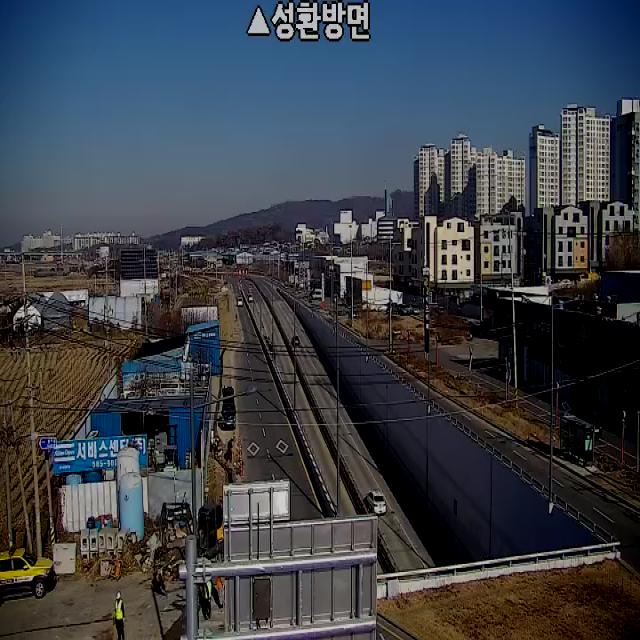Car: (0, 546, 55, 601), (572, 414, 602, 442), (366, 490, 386, 515), (292, 337, 300, 348), (248, 293, 252, 302)
Truck: (141, 468, 232, 606), (222, 385, 235, 429), (237, 296, 243, 306)
